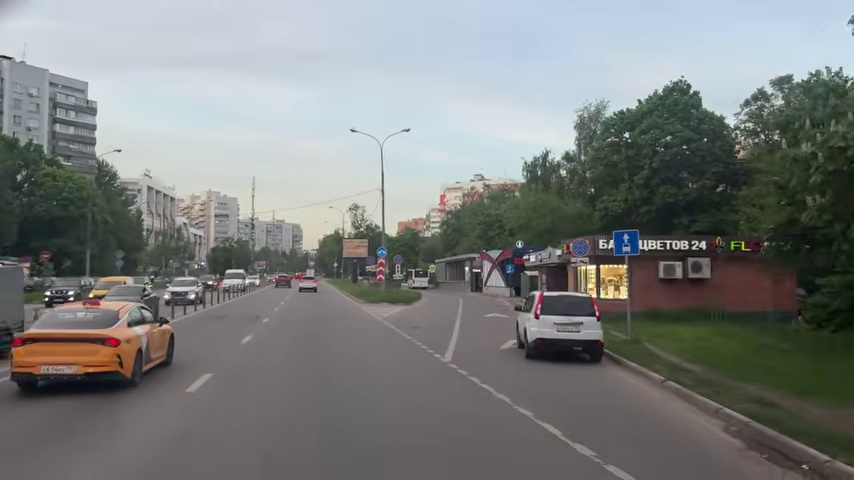apagada: (397, 125, 413, 138), (348, 125, 361, 137)
